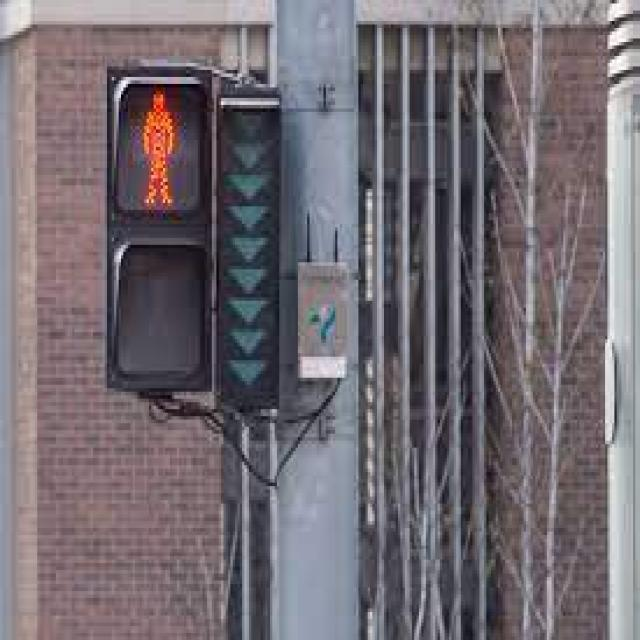red_light: (124, 89, 192, 211)
